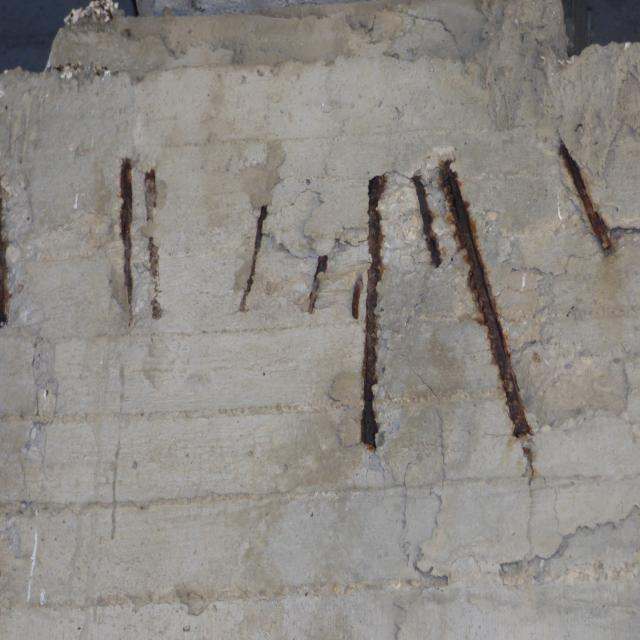corrosion: (351, 148, 550, 483), (114, 147, 172, 332), (548, 134, 622, 264), (239, 191, 279, 319), (0, 209, 15, 328)
